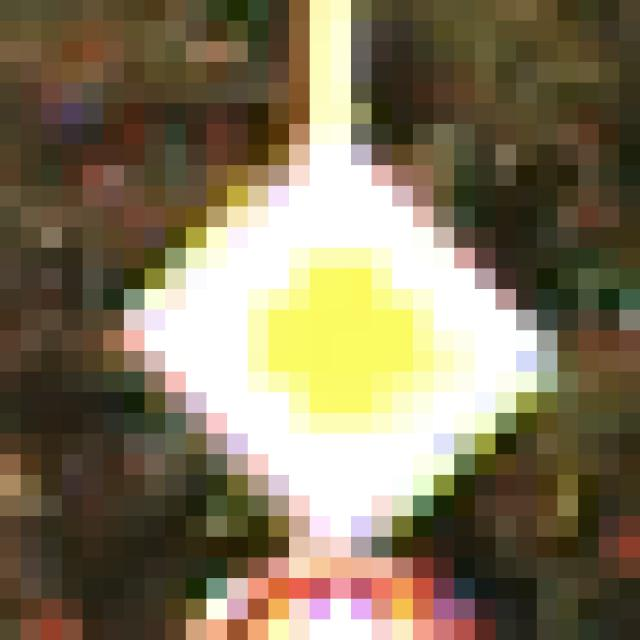Main Road: (104, 104, 538, 538)
